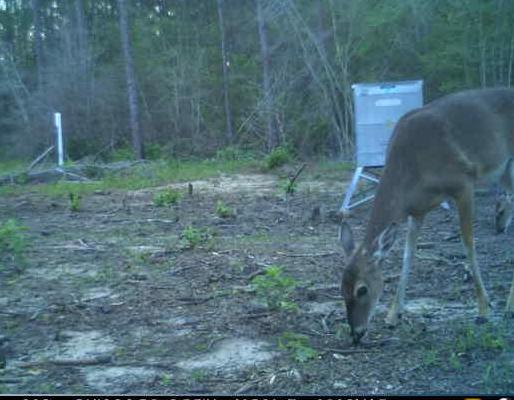Deer: (334, 81, 514, 349)
